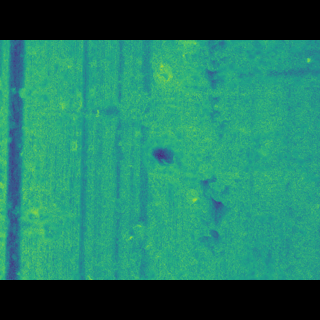Loch: (178, 70, 319, 251), (148, 68, 319, 115), (6, 86, 151, 132), (0, 186, 79, 221), (135, 140, 202, 177)
